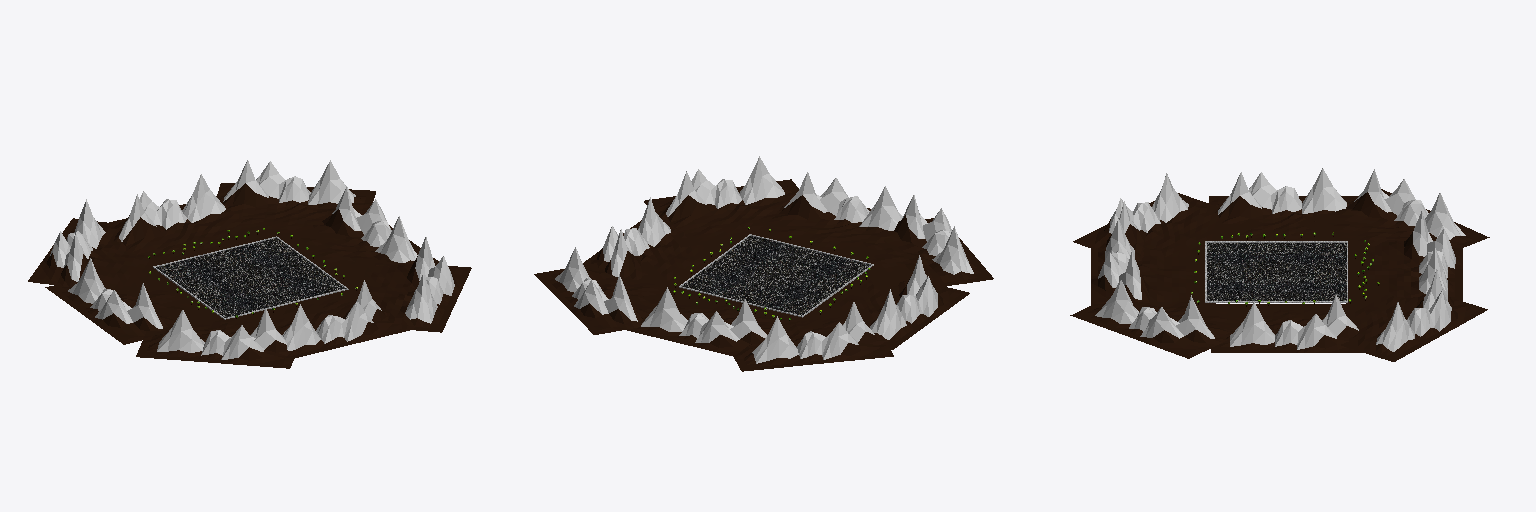
3 views of the same model, side by side, from view 1: azimuth 30°, elevation 25°; view 2: azimuth 150°, elevation 25°; view 3: azimuth 270°, elevation 25° (orthographic).
Parts seen in each view (by area): view 1: pCube2; view 2: pCube2; view 3: pCube2.
Boxes of the visible parts, <box> form: pCube2: <box>28,160,471,368</box>; pCube2: <box>534,156,993,371</box>; pCube2: <box>1070,168,1489,361</box>.
Size of the model in its own units: 870 by 104 by 890.
Materials: 6 (3 with a texture image).